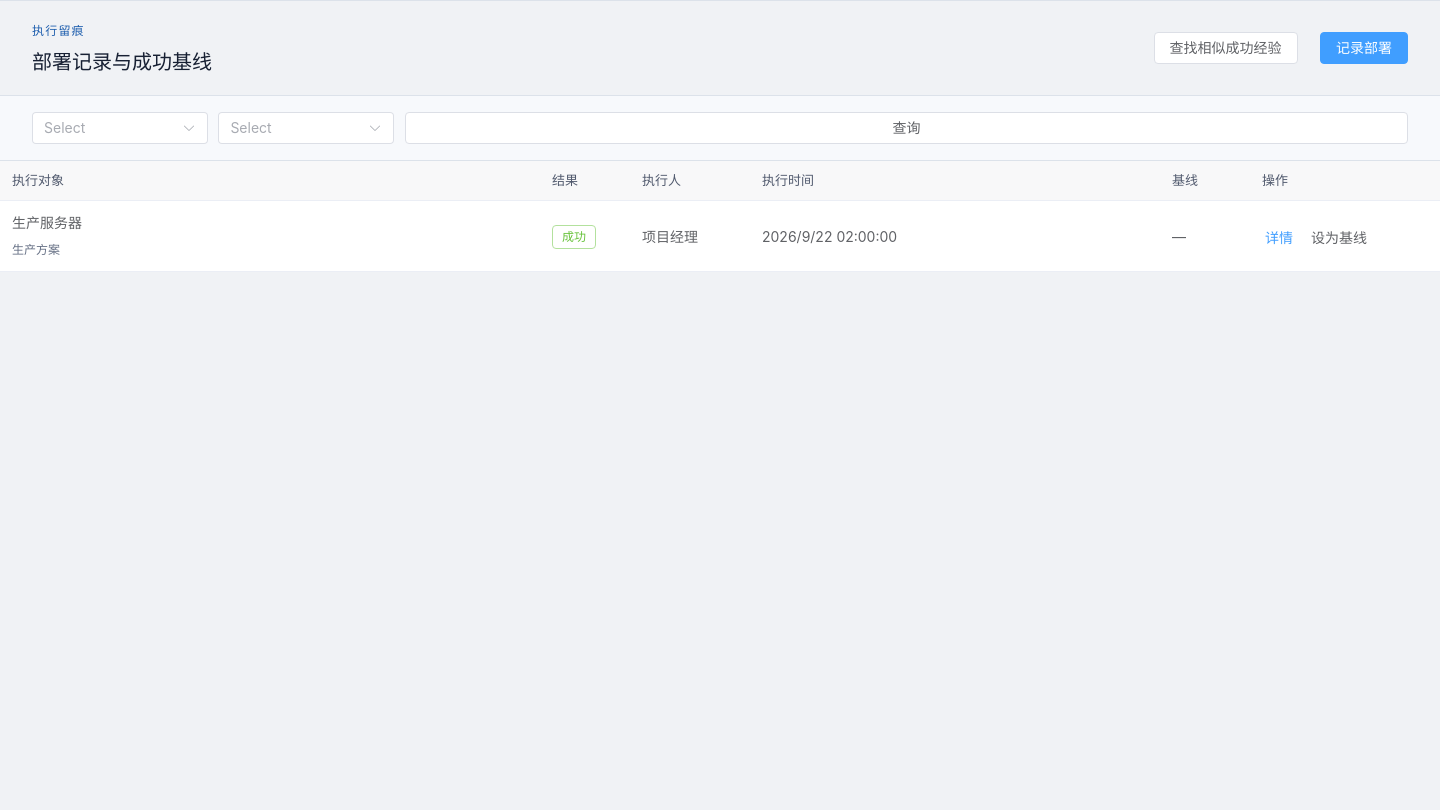
Scenario: DeploymentRecordPanel › loads records and renders immutable snapshot details
Click the button with test id "view-record": (1279, 238) [1262, 228, 1296, 248]
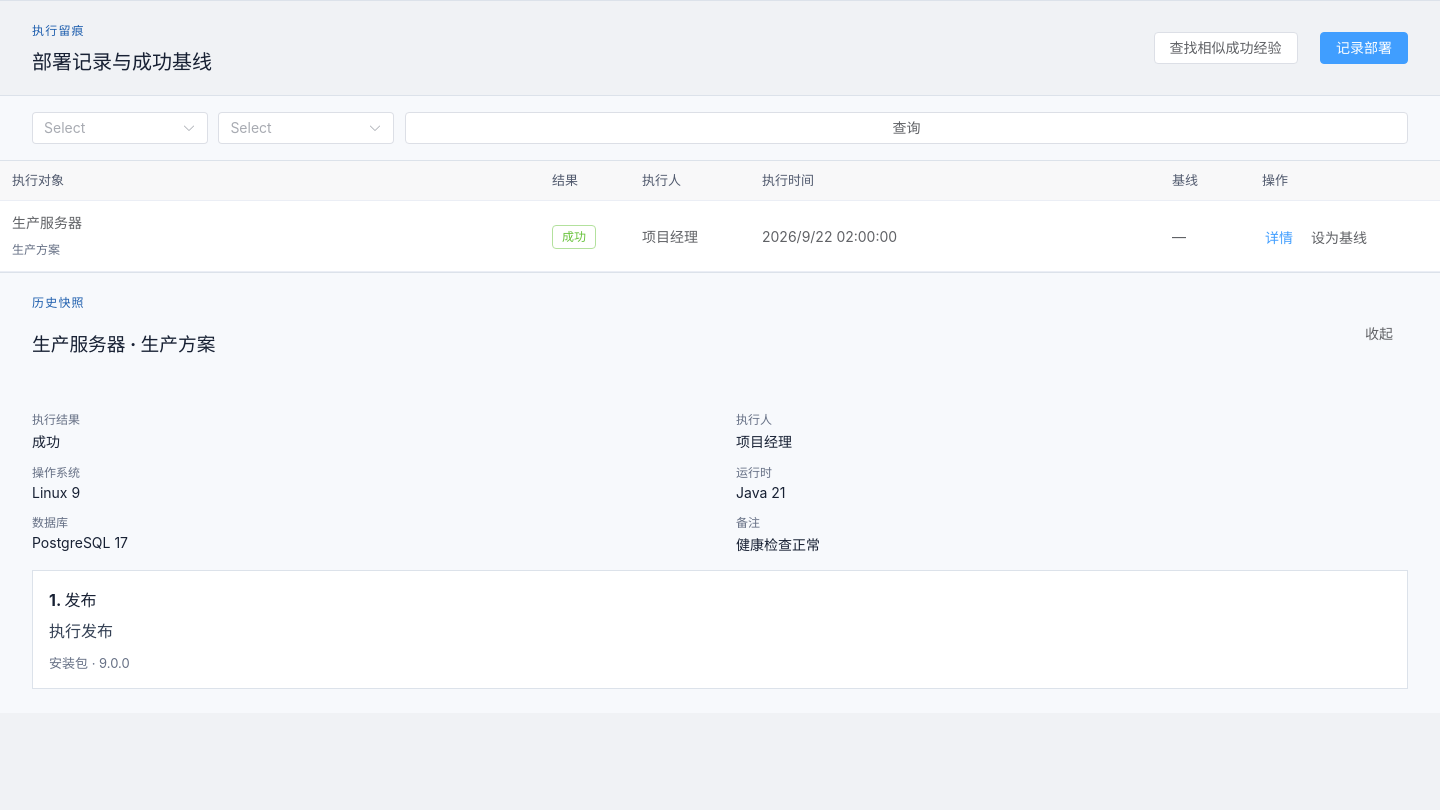
Result: the text "安装包 · 9.0.0" is shown at [49, 655, 130, 671]
Result: the text "PostgreSQL 17" is shown at [32, 534, 128, 551]
